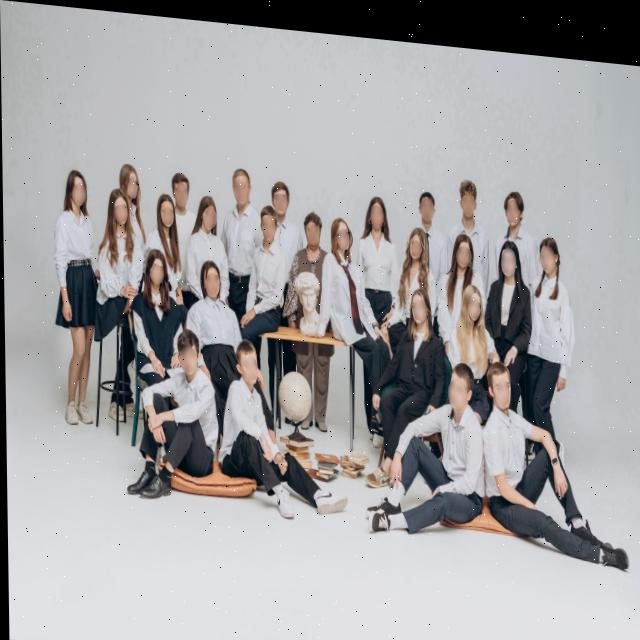Person: (479, 328, 637, 583), (205, 323, 350, 530), (351, 347, 482, 545), (122, 311, 214, 515), (47, 155, 107, 448), (518, 211, 577, 425), (92, 187, 142, 427), (354, 184, 404, 338), (451, 262, 498, 411), (488, 228, 530, 375), (322, 208, 364, 355), (435, 211, 485, 334), (133, 237, 176, 370), (195, 258, 248, 365), (253, 200, 289, 341), (222, 159, 260, 286), (393, 210, 439, 312), (287, 193, 332, 290), (166, 163, 196, 287), (414, 169, 445, 279), (117, 155, 152, 247), (266, 171, 300, 263), (188, 193, 230, 259), (459, 161, 493, 240), (150, 190, 178, 267), (438, 217, 471, 280)
